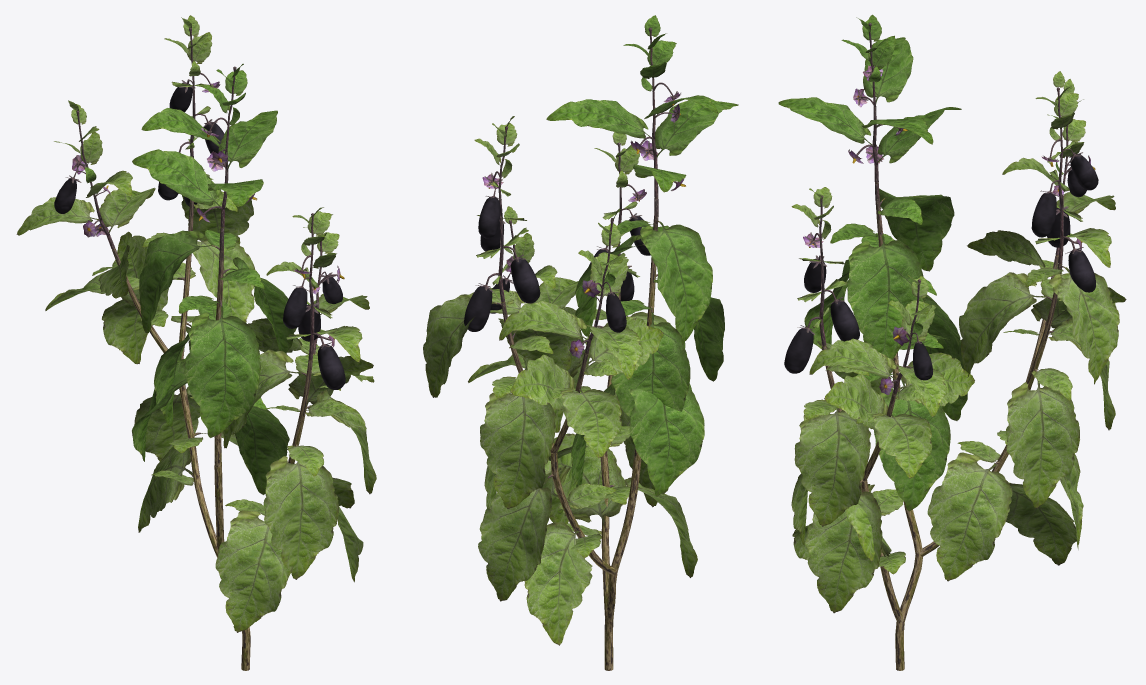
The picture shows the model from 3 angles, left to right: view 1: azimuth 30°, elevation 25°; view 2: azimuth 150°, elevation 25°; view 3: azimuth 270°, elevation 25°; orthographic projection. The views are drawn at different scales.
Visible parts, largest first — view 1: VG19_8; view 2: VG19_8; view 3: VG19_8.
Boxes of the visible parts, x1,y1,x2,y2 form: VG19_8: [16, 15, 376, 670]; VG19_8: [423, 15, 738, 670]; VG19_8: [778, 14, 1126, 670].
Size of the model in its own units: 0.4697 by 0.9943 by 0.5065.
9 materials, 9 textured.
